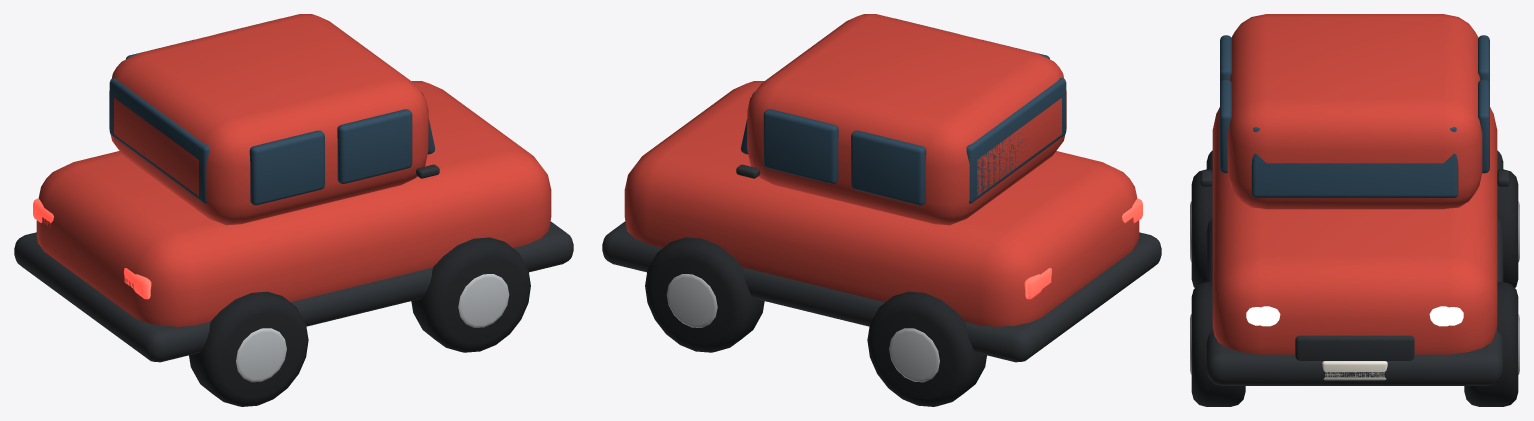
Rendered from car_red.glb.
3 renders of one model, left to right at view 1: azimuth 30°, elevation 25°; view 2: azimuth 150°, elevation 25°; view 3: azimuth 270°, elevation 25°, orthographic. The views are drawn at different scales.
Parts seen in each view (by area): view 1: car_red; view 2: car_red; view 3: car_red.
Boxes of the visible parts, bbox=[...] form: car_red: bbox=[14, 14, 573, 406]; car_red: bbox=[602, 14, 1161, 406]; car_red: bbox=[1190, 14, 1519, 406].
Size of the model in its own units: 1.71 by 1.01 by 1.1.
3 materials, 3 textured.
